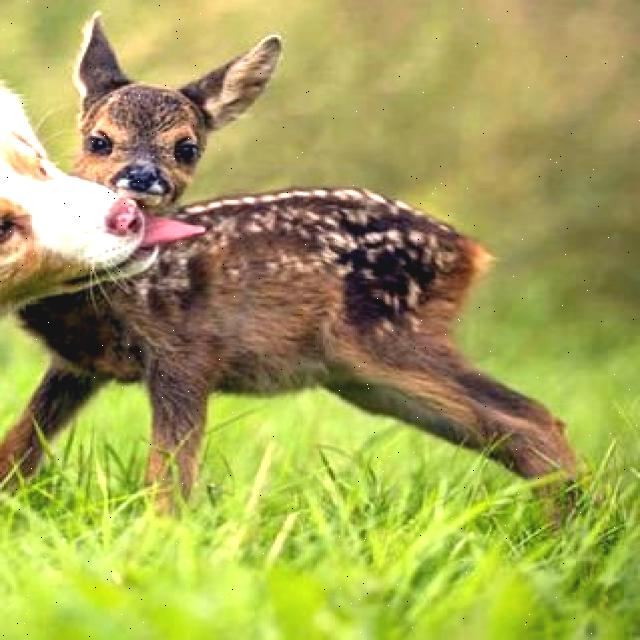deer: (0, 15, 512, 424)
